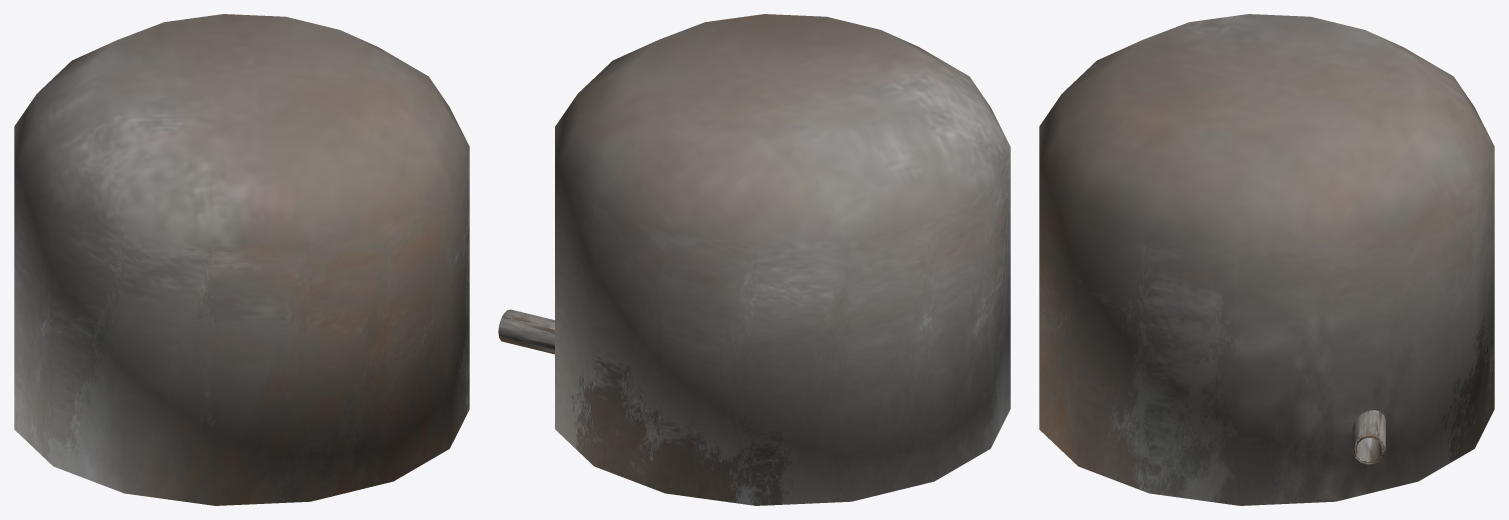
Rendered from smokemonster_statichead.fbx.
3 renders of one model, left to right at view 1: azimuth 30°, elevation 25°; view 2: azimuth 150°, elevation 25°; view 3: azimuth 270°, elevation 25°, orthographic.
Visible parts, largest first — view 1: Circle_004; view 2: Circle_004, Circle_002; view 3: Circle_004, Circle_002.
Boxes of the visible parts, x1,y1,x2,y2 form: Circle_004: (14,14,469,505); Circle_004: (555,14,1010,505); Circle_002: (498,309,554,354); Circle_004: (1039,14,1494,505); Circle_002: (1352,410,1385,464).
Bounding box in the file's own units: 6.31 × 4.77 × 5.93.
1 material, 1 textured.
